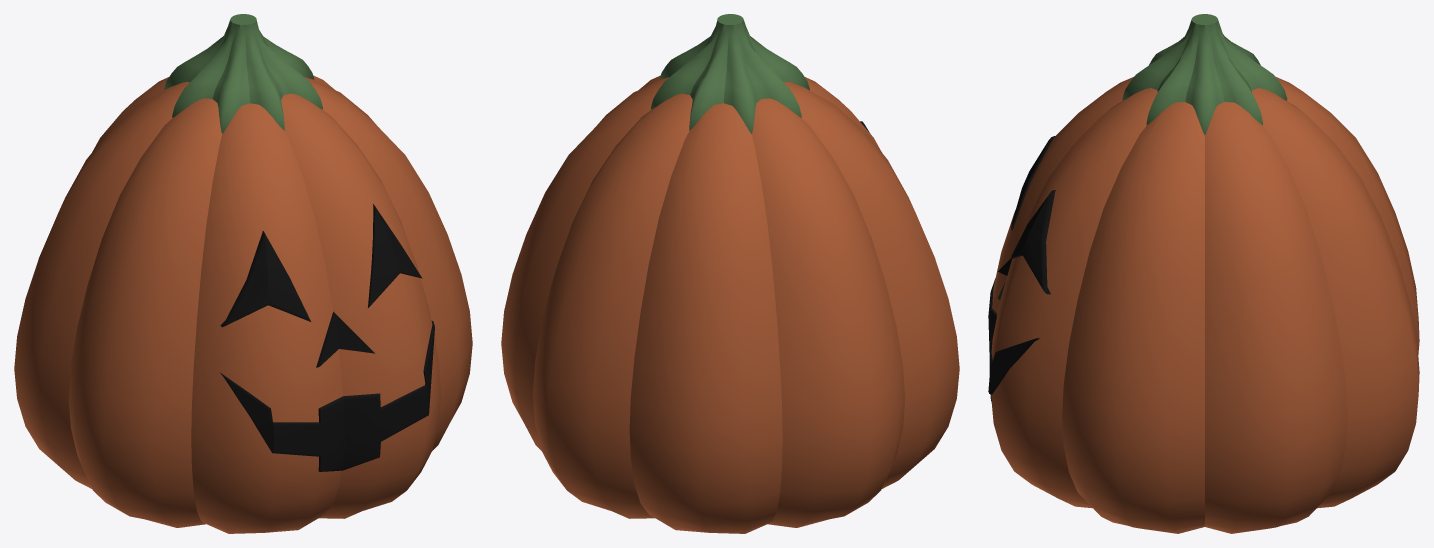
File: pumpkin.fbx
The picture shows the model from 3 angles, left to right: view 1: azimuth 30°, elevation 25°; view 2: azimuth 150°, elevation 25°; view 3: azimuth 270°, elevation 25°; orthographic projection.
Visible parts, largest first — view 1: pSphere1, pSphere3, pSphere2; view 2: pSphere1, pSphere2; view 3: pSphere1, pSphere2, pSphere3.
Boxes of the visible parts, box(x1,y1,x2,y2) form: pSphere1: box(14, 75, 472, 533); pSphere3: box(220, 204, 434, 471); pSphere2: box(164, 14, 322, 133); pSphere1: box(501, 75, 959, 533); pSphere2: box(651, 14, 809, 133); pSphere1: box(991, 77, 1419, 533); pSphere2: box(1122, 14, 1287, 135); pSphere3: box(988, 136, 1055, 401).
Bounding box in the file's own units: 1.6 × 1.87 × 1.61.
